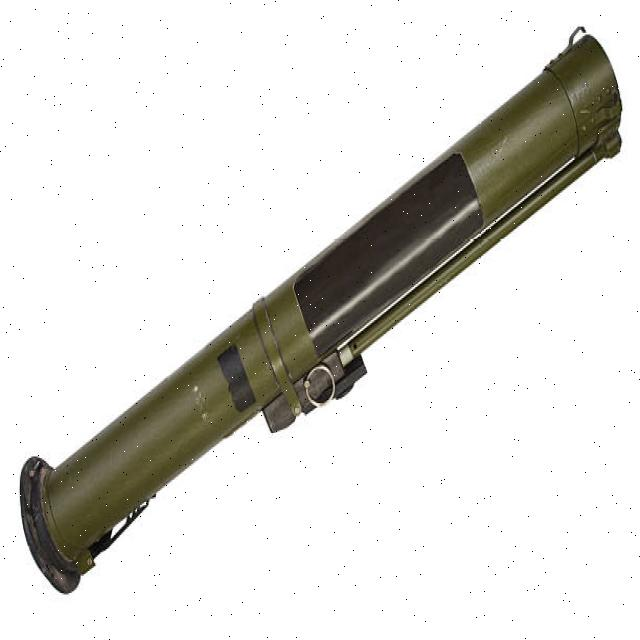bazooka: (19, 21, 624, 602)
